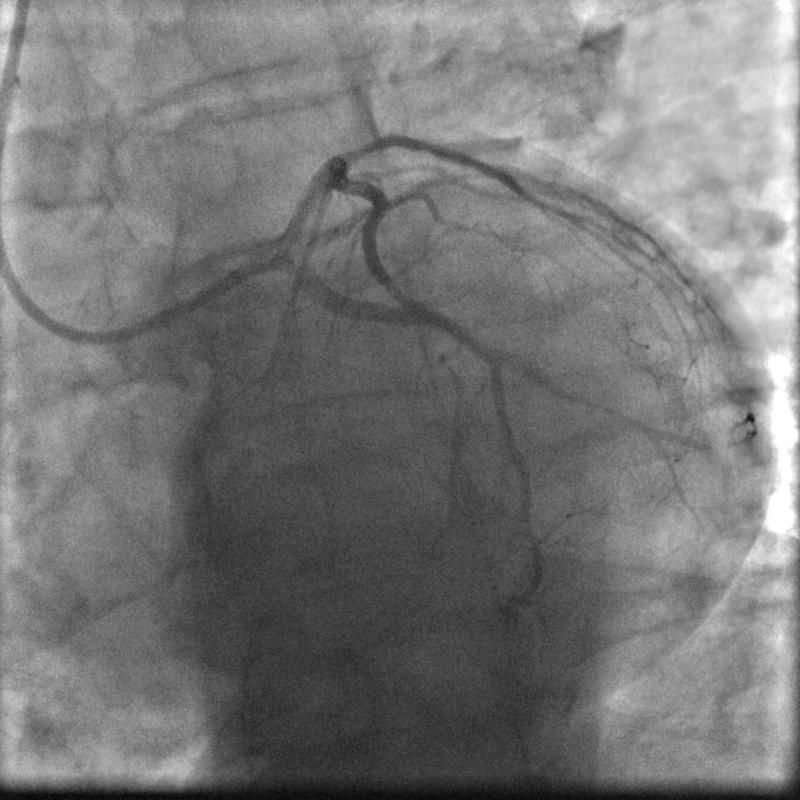Stenosis: (337, 127, 393, 162)
